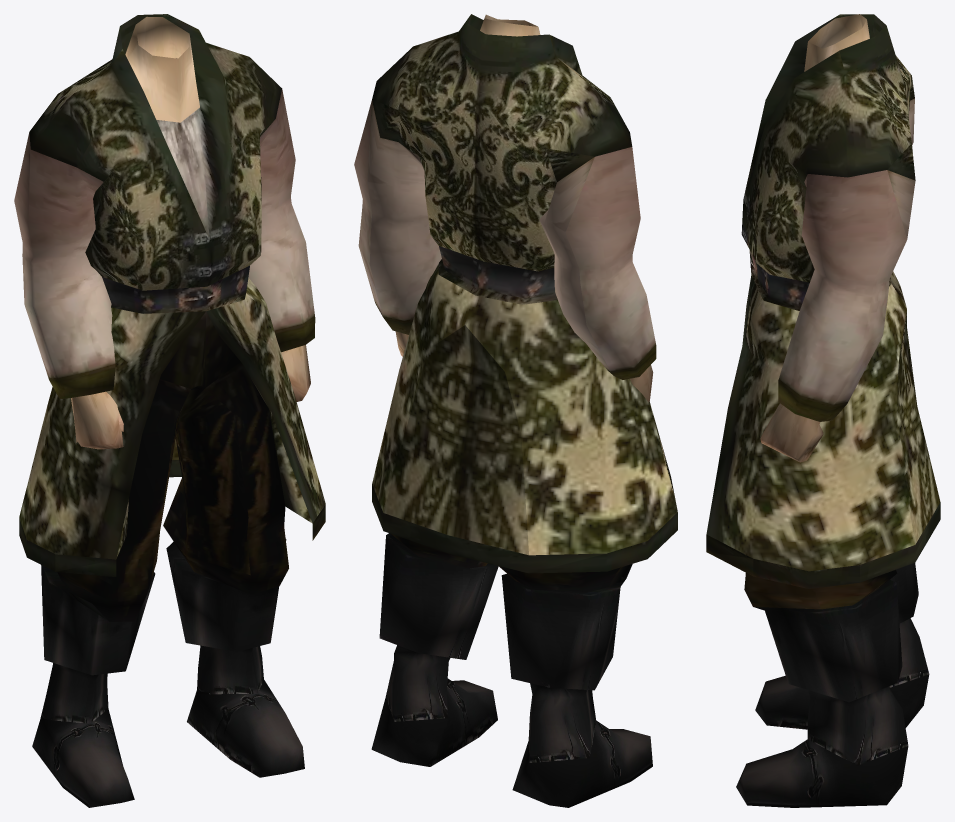
The model's file is WG_ARMOR_ELEGANT_CITIZEN_06.glb.
3 views of the same model, side by side, from view 1: azimuth 30°, elevation 25°; view 2: azimuth 150°, elevation 25°; view 3: azimuth 270°, elevation 25° (orthographic). The views are drawn at different scales.
Visible parts, largest first — view 1: WG_ARMOR_ELEGANT_CITIZEN_06; view 2: WG_ARMOR_ELEGANT_CITIZEN_06; view 3: WG_ARMOR_ELEGANT_CITIZEN_06.
Part boxes in pixels (x1,y1,x2,y2): WG_ARMOR_ELEGANT_CITIZEN_06: (14, 14, 325, 807); WG_ARMOR_ELEGANT_CITIZEN_06: (354, 14, 677, 807); WG_ARMOR_ELEGANT_CITIZEN_06: (706, 14, 940, 807).
Bounding box in the file's own units: 0.651 × 1.69 × 0.4847.
Materials: 3 (3 with a texture image).
